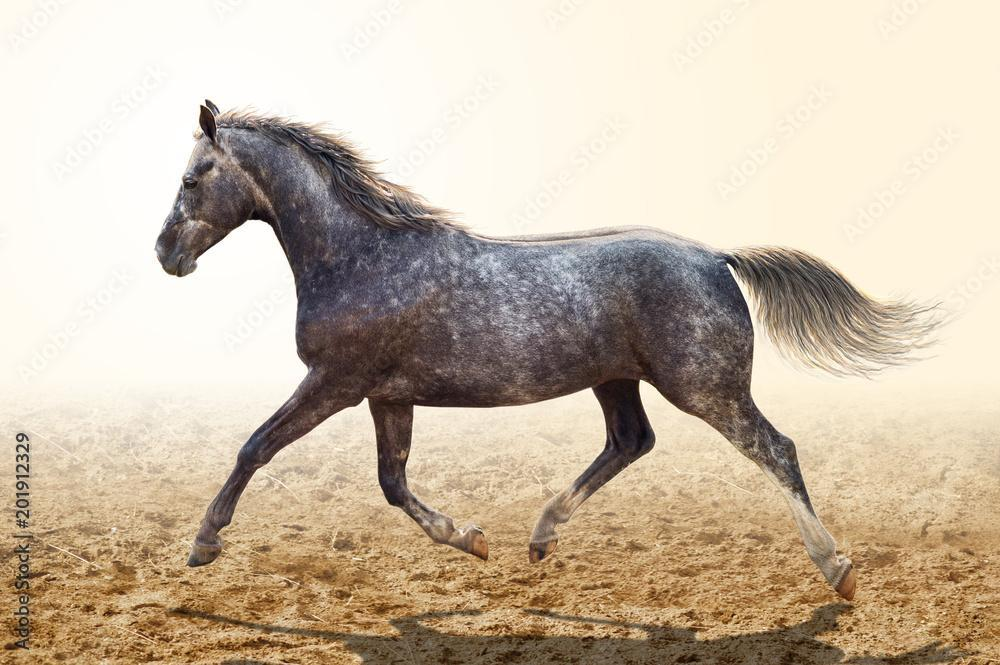horse: (149, 92, 949, 606)
